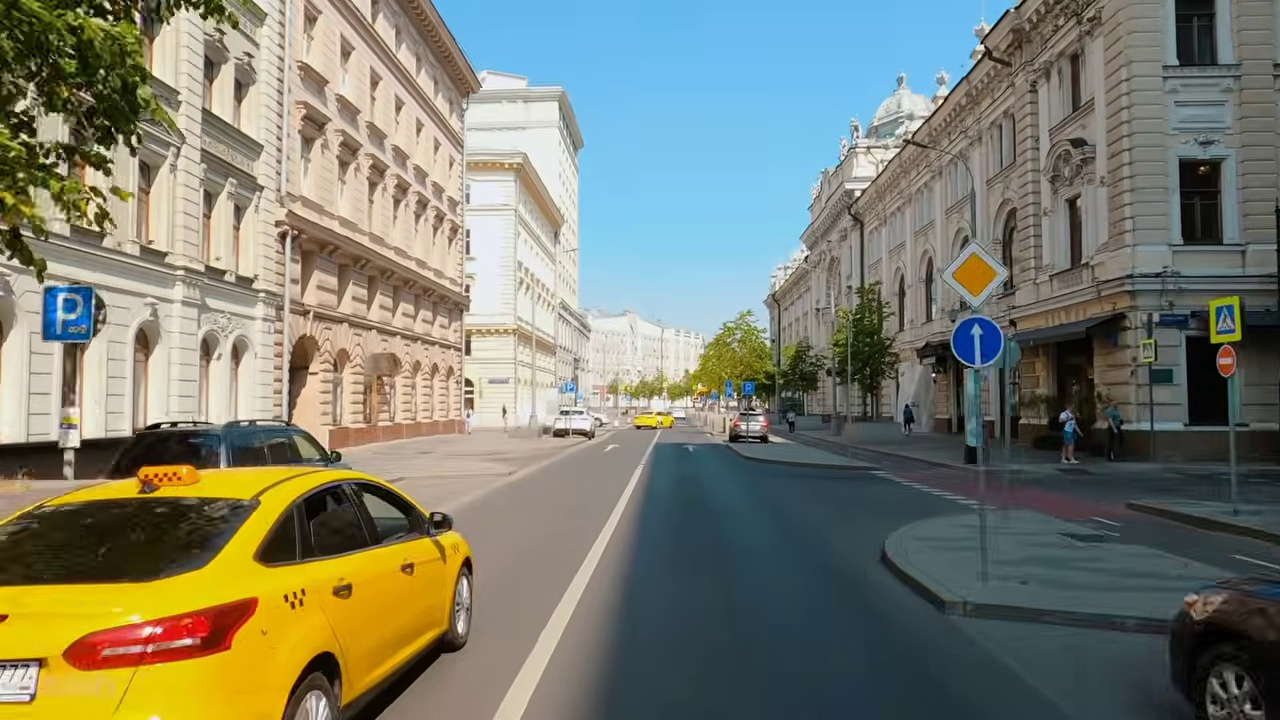apagada: (895, 129, 933, 157)
